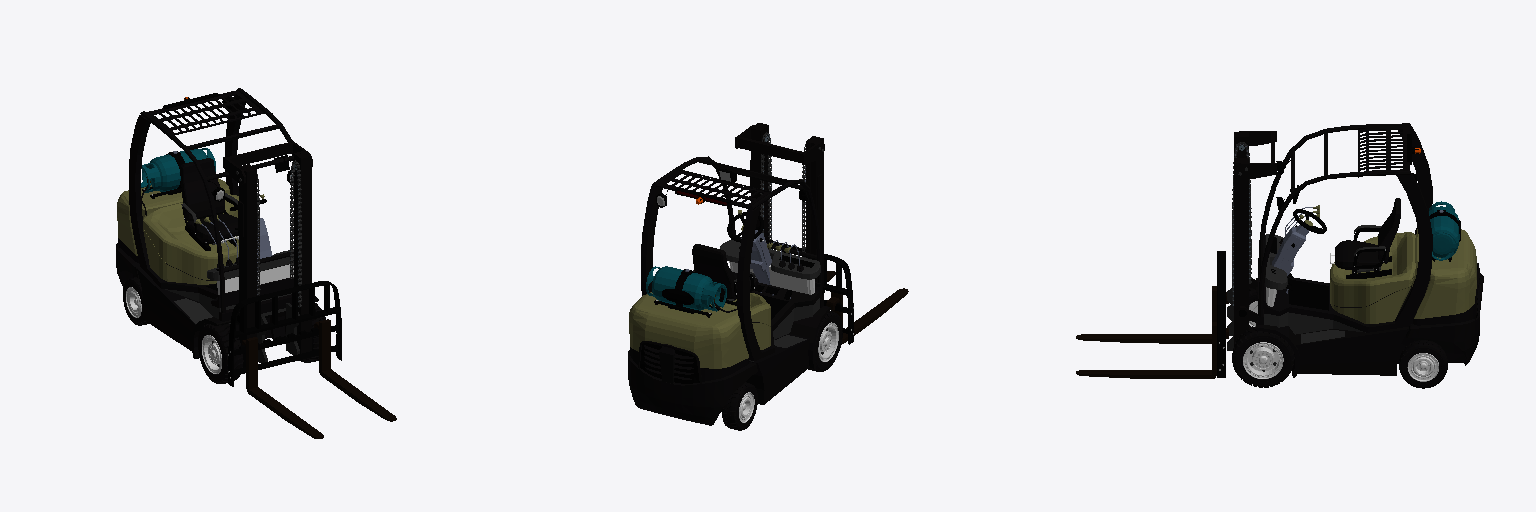
The model's file is wozek_HP.obj.
3 views of the same model, side by side, from view 1: azimuth 30°, elevation 25°; view 2: azimuth 150°, elevation 25°; view 3: azimuth 270°, elevation 25° (orthographic).
Visible parts, largest first — view 1: Circle.082_Circle.090, siedzisko_gora.002_Cube.099, widla.004_Plane.054, Cube.095_Cube.101, Plane.044_Plane.048, Plane.053_Plane.059, Cube.133_Cube.139, Cube.121_Cube.127, Plane.047_Plane.051, butla_gazowa.008_Circle.109, Plane.051_Plane.057, Plane.045_Plane.049 (+13 smaller); view 2: Plane.051_Plane.057, Plane.056_Plane.062, Circle.082_Circle.090, Plane.044_Plane.048, Plane.053_Plane.059, butla_gazowa.008_Circle.109, Cube.095_Cube.101, Cube.121_Cube.127, Plane.045_Plane.049, Cube.133_Cube.139, Cube.097_Cube.103, widla.004_Plane.054 (+11 smaller); view 3: Circle.082_Circle.090, Plane.053_Plane.059, Plane.051_Plane.057, siedzisko_gora.002_Cube.099, Plane.044_Plane.048, widla.004_Plane.054, Plane.056_Plane.062, Cube.095_Cube.101, Plane.045_Plane.049, butla_gazowa.008_Circle.109, siedzisko_dol.002_Cube.100, Plane.046_Plane.050 (+14 smaller).
Boxes of the visible parts, x1=… form: Circle.082_Circle.090: x1=140, y1=88, x2=293, y2=312; siedzisko_gora.002_Cube.099: x1=143, y1=194, x2=238, y2=279; widla.004_Plane.054: x1=246, y1=319, x2=396, y2=438; Cube.095_Cube.101: x1=238, y1=151, x2=311, y2=367; Plane.044_Plane.048: x1=129, y1=95, x2=245, y2=268; Plane.053_Plane.059: x1=137, y1=268, x2=271, y2=350; Cube.133_Cube.139: x1=245, y1=152, x2=305, y2=360; Cube.121_Cube.127: x1=180, y1=158, x2=224, y2=220; Plane.047_Plane.051: x1=235, y1=285, x2=339, y2=337; butla_gazowa.008_Circle.109: x1=141, y1=148, x2=215, y2=192; Plane.051_Plane.057: x1=117, y1=178, x2=229, y2=255; Plane.045_Plane.049: x1=139, y1=261, x2=293, y2=307; Plane.051_Plane.057: x1=629, y1=292, x2=748, y2=368; Plane.056_Plane.062: x1=628, y1=347, x2=757, y2=425; Circle.082_Circle.090: x1=652, y1=156, x2=822, y2=298; Plane.044_Plane.048: x1=641, y1=186, x2=761, y2=356; Plane.053_Plane.059: x1=704, y1=334, x2=809, y2=404; butla_gazowa.008_Circle.109: x1=646, y1=266, x2=726, y2=311; Cube.095_Cube.101: x1=750, y1=123, x2=823, y2=297; Cube.121_Cube.127: x1=692, y1=244, x2=736, y2=298; Plane.045_Plane.049: x1=749, y1=282, x2=820, y2=360; Cube.133_Cube.139: x1=756, y1=124, x2=817, y2=258; Cube.097_Cube.103: x1=720, y1=240, x2=820, y2=279; widla.004_Plane.054: x1=827, y1=271, x2=908, y2=344; Circle.082_Circle.090: x1=1258, y1=123, x2=1411, y2=316; Plane.053_Plane.059: x1=1296, y1=327, x2=1408, y2=375; Plane.051_Plane.057: x1=1412, y1=229, x2=1476, y2=318; siedzisko_gora.002_Cube.099: x1=1330, y1=232, x2=1415, y2=306; Plane.044_Plane.048: x1=1395, y1=127, x2=1432, y2=323; widla.004_Plane.054: x1=1076, y1=286, x2=1216, y2=378; Plane.056_Plane.062: x1=1396, y1=304, x2=1479, y2=365; Cube.095_Cube.101: x1=1234, y1=132, x2=1248, y2=343; Plane.045_Plane.049: x1=1263, y1=276, x2=1411, y2=332; butla_gazowa.008_Circle.109: x1=1429, y1=201, x2=1459, y2=260; siedzisko_dol.002_Cube.100: x1=1330, y1=283, x2=1412, y2=323; Plane.046_Plane.050: x1=1217, y1=251, x2=1225, y2=377.
Size of the model in its own units: 2.06 by 3.85 by 6.51.